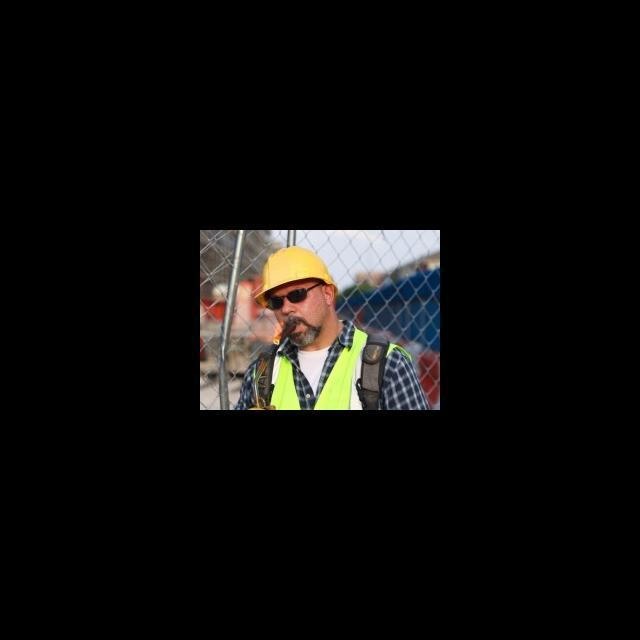Capacete: (255, 246, 337, 305)
Colete: (314, 328, 366, 409)
Oculos: (266, 282, 322, 309)
Pessoa: (235, 246, 429, 409)
